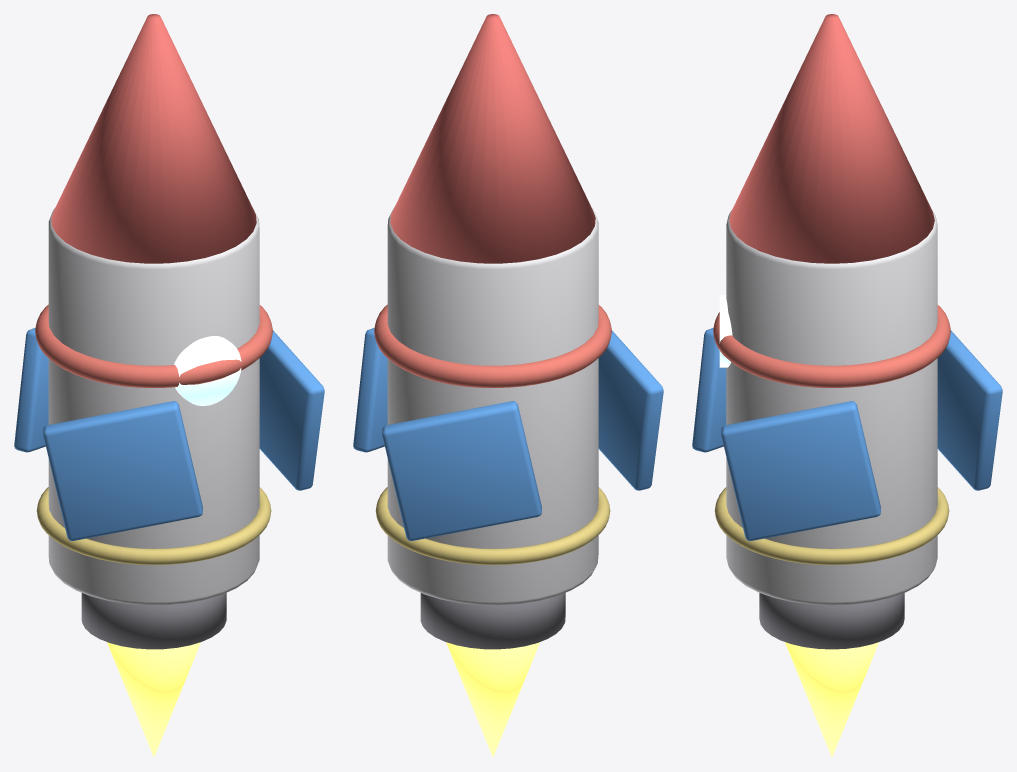
The model's file is rocket.glb.
The picture shows the model from 3 angles, left to right: view 1: azimuth 30°, elevation 25°; view 2: azimuth 150°, elevation 25°; view 3: azimuth 270°, elevation 25°; orthographic projection.
Visible parts, largest first — view 1: RocketBody, Nose, Fin2, Fin0, Nozzle, Stripe, Flame, Collar, Fin1, Window; view 2: RocketBody, Nose, Fin1, Fin2, Stripe, Nozzle, Flame, Collar, Fin0; view 3: RocketBody, Nose, Fin0, Fin1, Nozzle, Stripe, Flame, Collar, Fin2, Window.
Boxes of the visible parts, left/top/right/bottom form: RocketBody: left=48, top=207, right=259, bottom=605; Nose: left=51, top=14, right=256, bottom=263; Fin2: left=43, top=401, right=202, bottom=540; Fin0: left=259, top=330, right=324, bottom=490; Nozzle: left=81, top=593, right=226, bottom=649; Stripe: left=35, top=304, right=272, bottom=387; Flame: left=107, top=642, right=200, bottom=757; Collar: left=36, top=487, right=271, bottom=565; Fin1: left=14, top=328, right=48, bottom=452; Window: left=174, top=336, right=241, bottom=405; RocketBody: left=387, top=207, right=598, bottom=605; Nose: left=390, top=14, right=595, bottom=263; Fin1: left=382, top=401, right=541, bottom=540; Fin2: left=598, top=330, right=663, bottom=490; Stripe: left=374, top=304, right=611, bottom=387; Nozzle: left=420, top=593, right=565, bottom=649; Flame: left=446, top=642, right=539, bottom=757; Collar: left=375, top=487, right=610, bottom=565; Fin0: left=353, top=328, right=387, bottom=452; RocketBody: left=726, top=210, right=937, bottom=605; Nose: left=729, top=14, right=934, bottom=263; Fin0: left=721, top=401, right=880, bottom=540; Fin1: left=937, top=330, right=1002, bottom=490; Nozzle: left=759, top=593, right=904, bottom=649; Stripe: left=713, top=305, right=950, bottom=387; Flame: left=785, top=642, right=878, bottom=757; Collar: left=714, top=487, right=949, bottom=565; Fin2: left=692, top=328, right=726, bottom=452; Window: left=719, top=295, right=732, bottom=367.
Size of the model in its own units: 0.8995 by 2.48 by 0.94.
